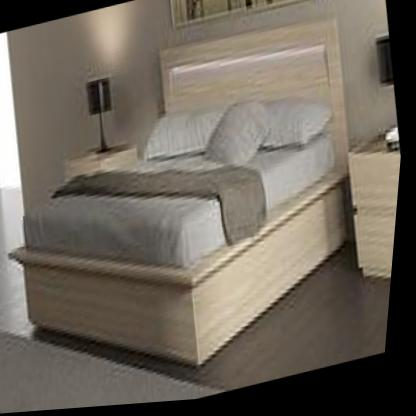Bed: (0, 12, 394, 414)
